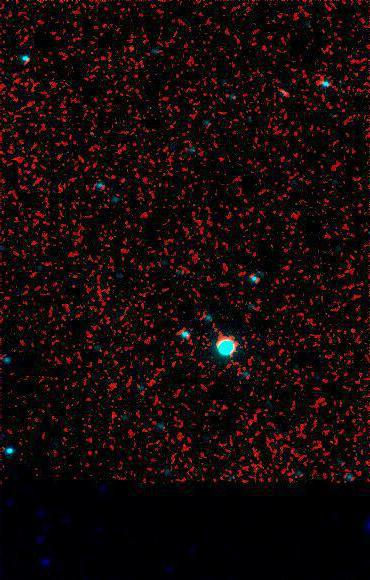star: (117, 36, 147, 66)
